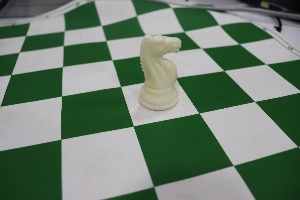white_horse: (133, 26, 184, 115)
